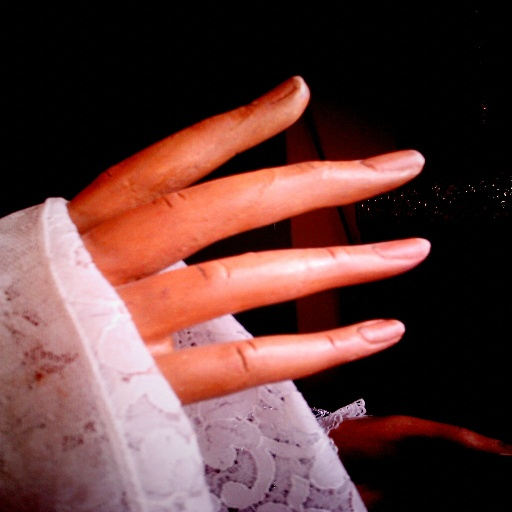hand: (61, 76, 428, 400), (338, 415, 511, 508)
